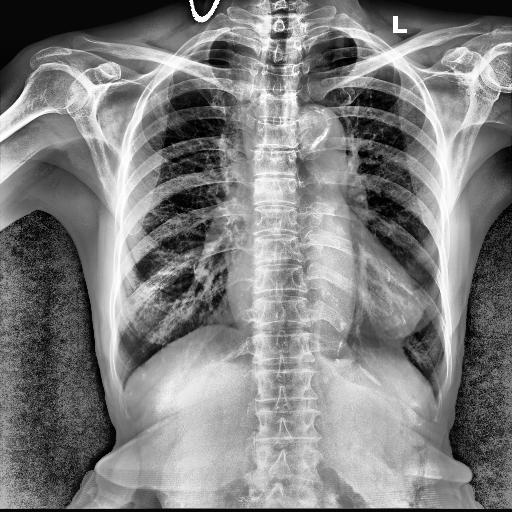0- Aortic enlargement: (290, 104, 350, 174), (296, 99, 346, 169), (286, 106, 346, 152)
3- Cardiomegaly: (220, 266, 424, 336), (225, 269, 421, 337), (226, 276, 424, 334)
